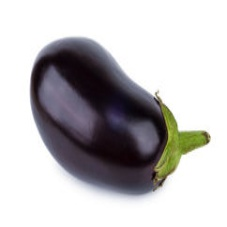eggplant: (29, 36, 171, 198)
